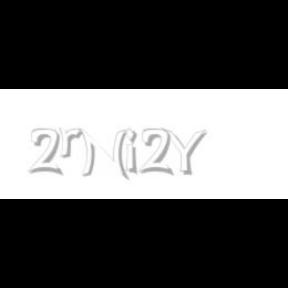2: (27, 128, 61, 176), (138, 128, 172, 176)
N: (78, 128, 128, 180)
Y: (161, 128, 207, 176)
i: (125, 128, 141, 176)
r: (58, 128, 86, 158)
